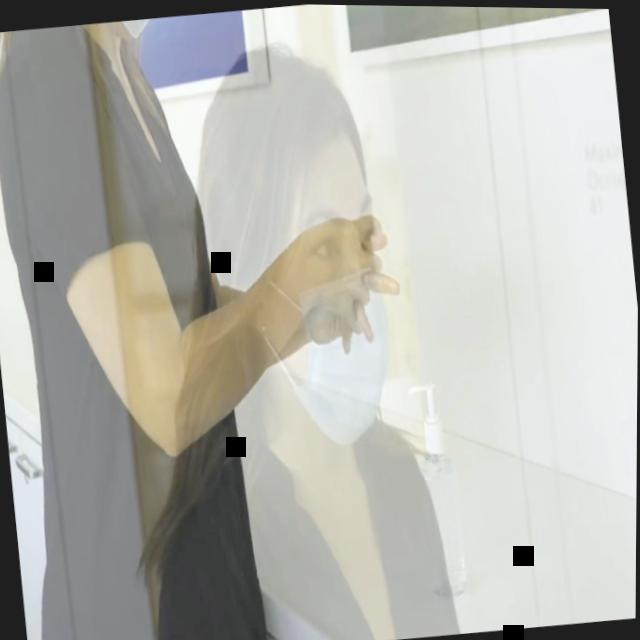Mask: (235, 128, 402, 458), (108, 17, 155, 39)
